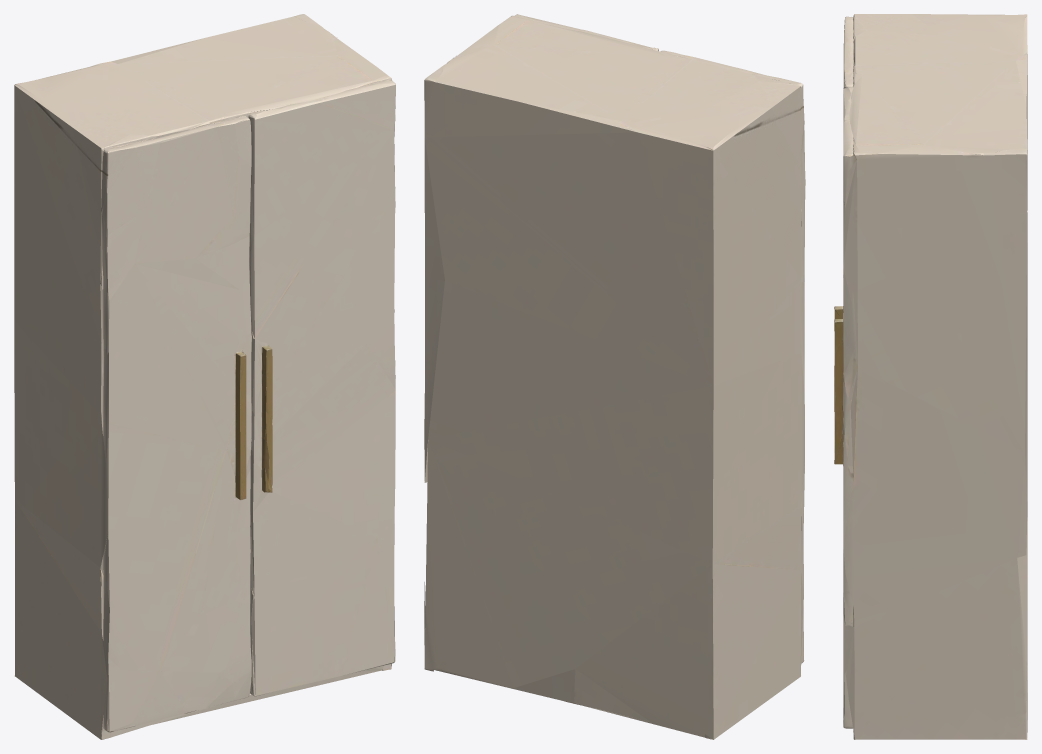
Rendered from wardrobe.glb.
3 renders of one model, left to right at view 1: azimuth 30°, elevation 25°; view 2: azimuth 150°, elevation 25°; view 3: azimuth 270°, elevation 25°, orthographic.
Bounding box in the file's own units: 0.9784 × 1.9 × 0.5679.
1 material, 1 textured.
